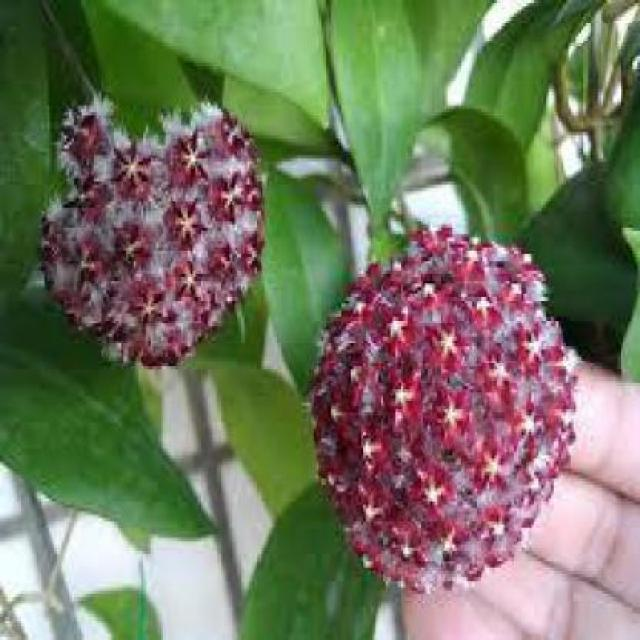flower: (295, 220, 597, 586), (45, 79, 272, 370)
